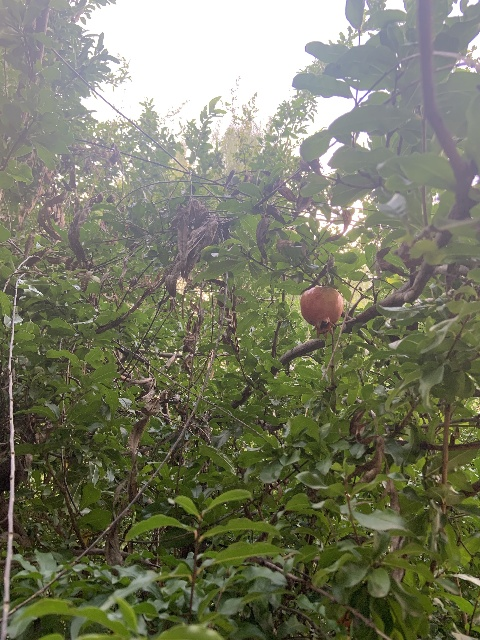ripe: (300, 286, 344, 337)
